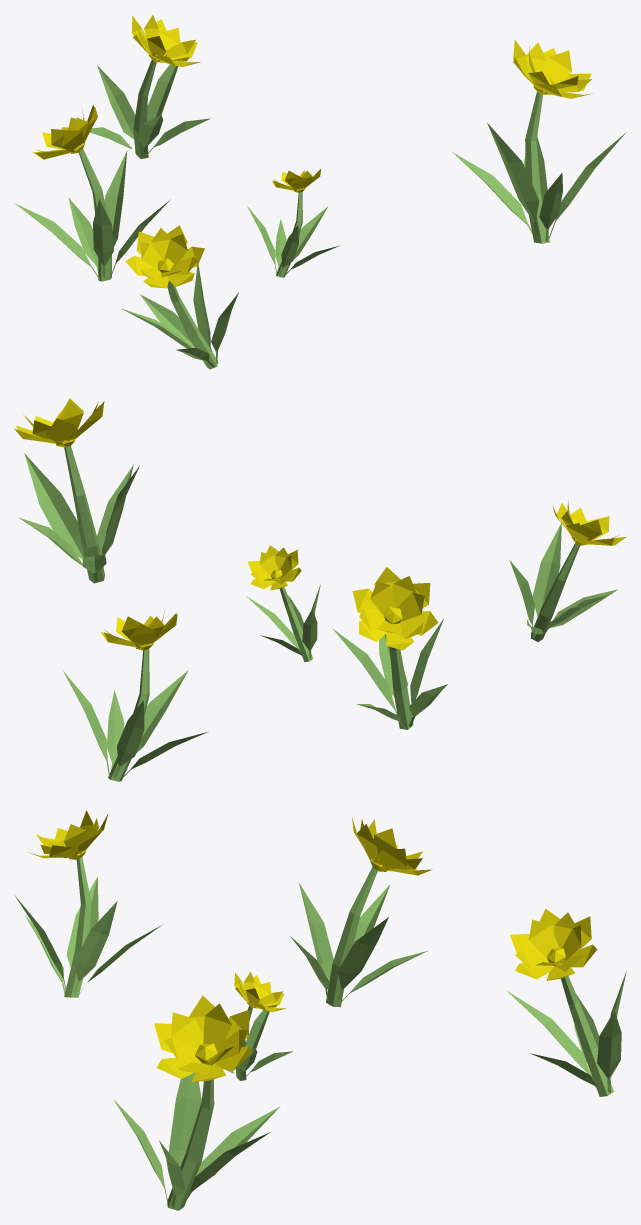
The model's file is FlowerYellow02.fbx.
The picture shows the model from 3 angles, top to bottom: view 1: azimuth 30°, elevation 25°; view 2: azimuth 150°, elevation 25°; view 3: azimuth 270°, elevation 25°; orthographic projection. The views are drawn at different scales.
Parts seen in each view (by area): view 1: Circle.528; view 2: Circle.528; view 3: Circle.528.
Boxes of the visible parts, x1,y1,x2,y2 form: Circle.528: (14, 15, 626, 369); Circle.528: (14, 398, 625, 781); Circle.528: (15, 810, 626, 1210).
Size of the model in its own units: 89.41 by 29.86 by 78.8.
